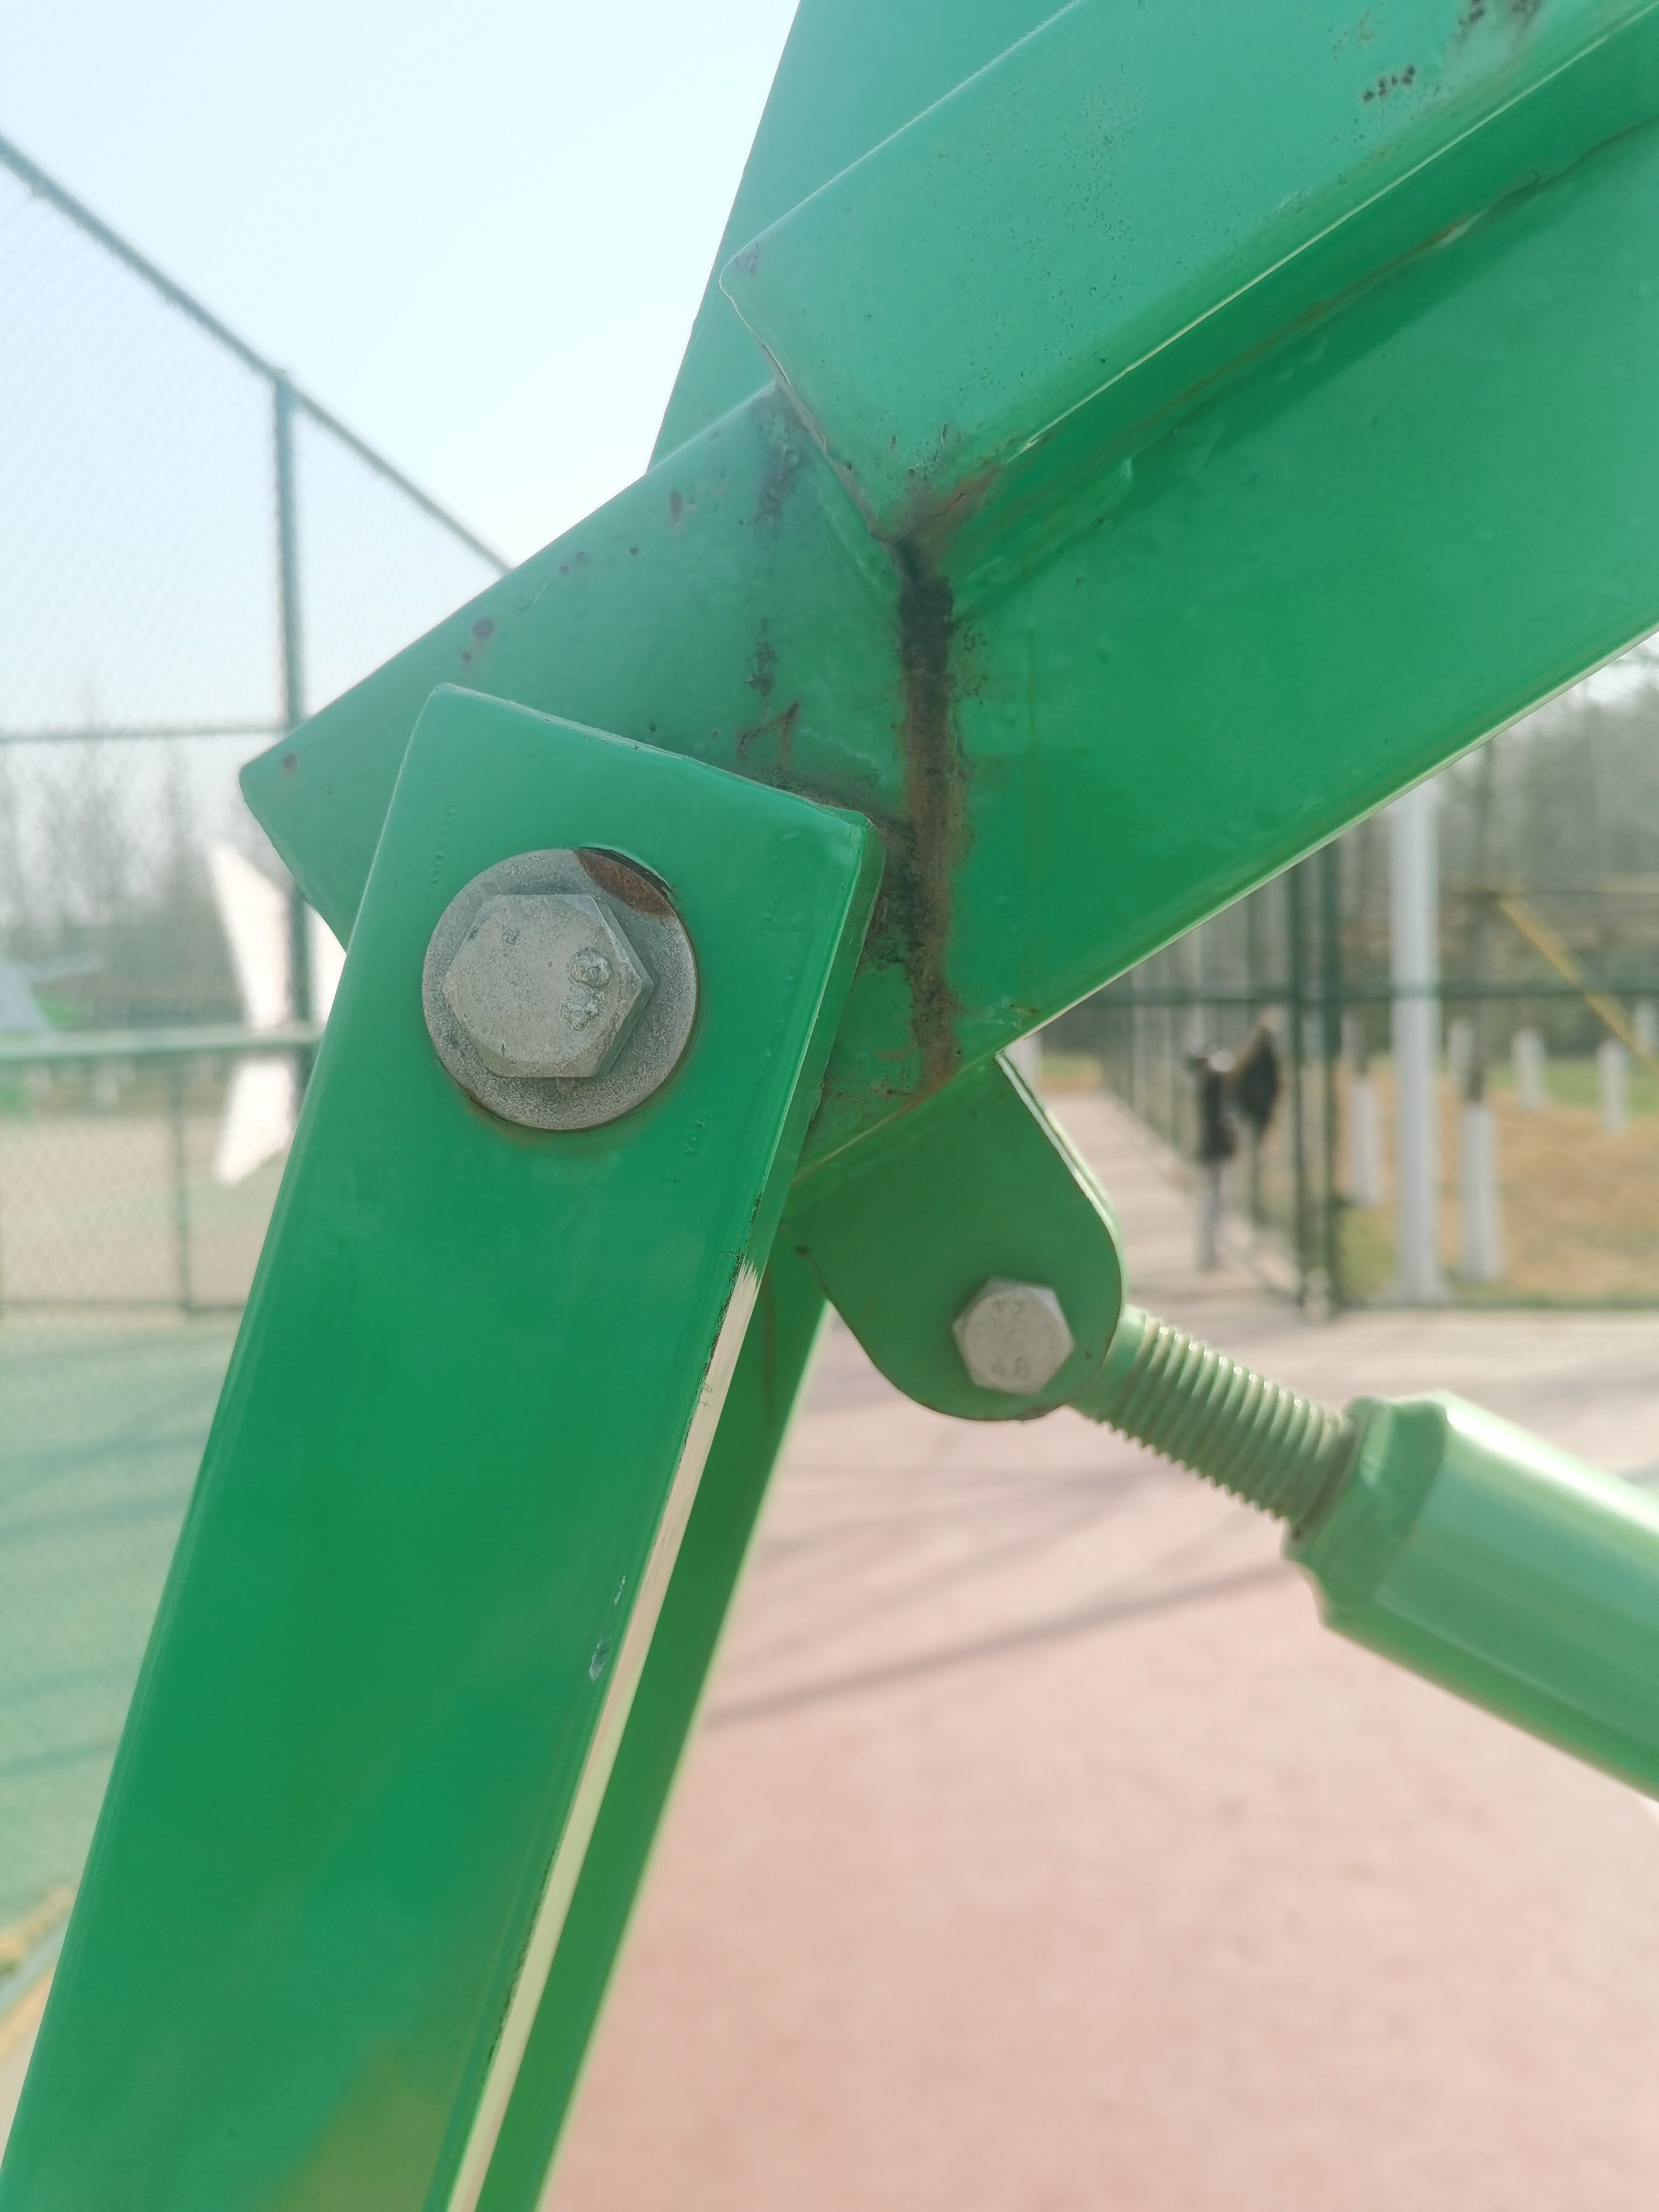bolt_a: (436, 885, 660, 1087), (943, 1270, 1077, 1404)
